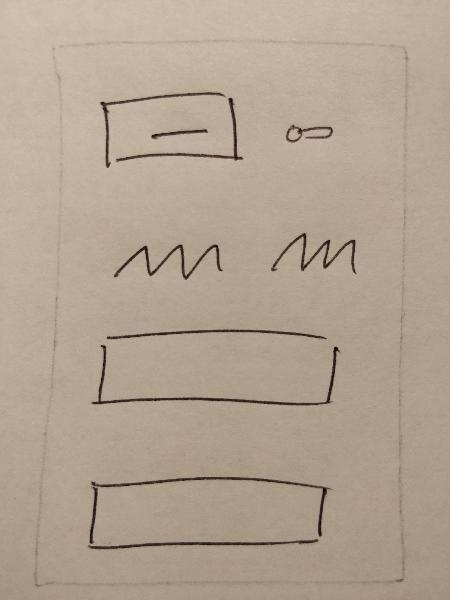button: (87, 88, 255, 169)
switch: (272, 114, 342, 152)
text: (105, 230, 232, 292), (257, 222, 364, 283)
text_input: (77, 458, 339, 564), (84, 321, 349, 418)
